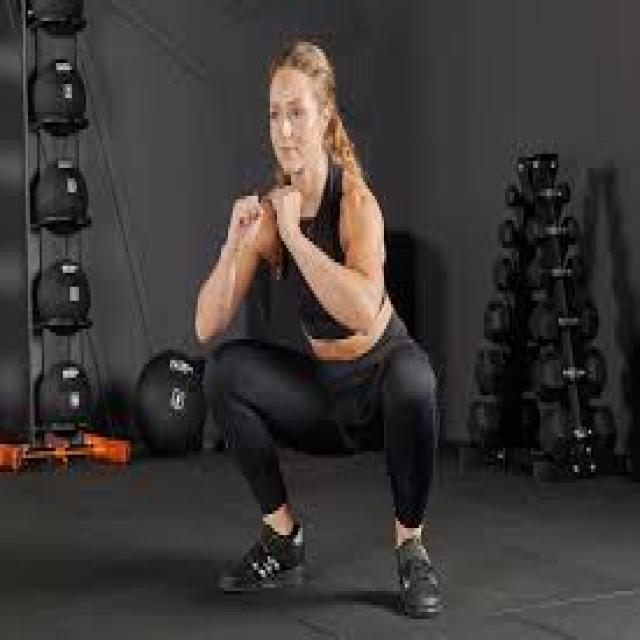squat: (194, 33, 446, 616)
